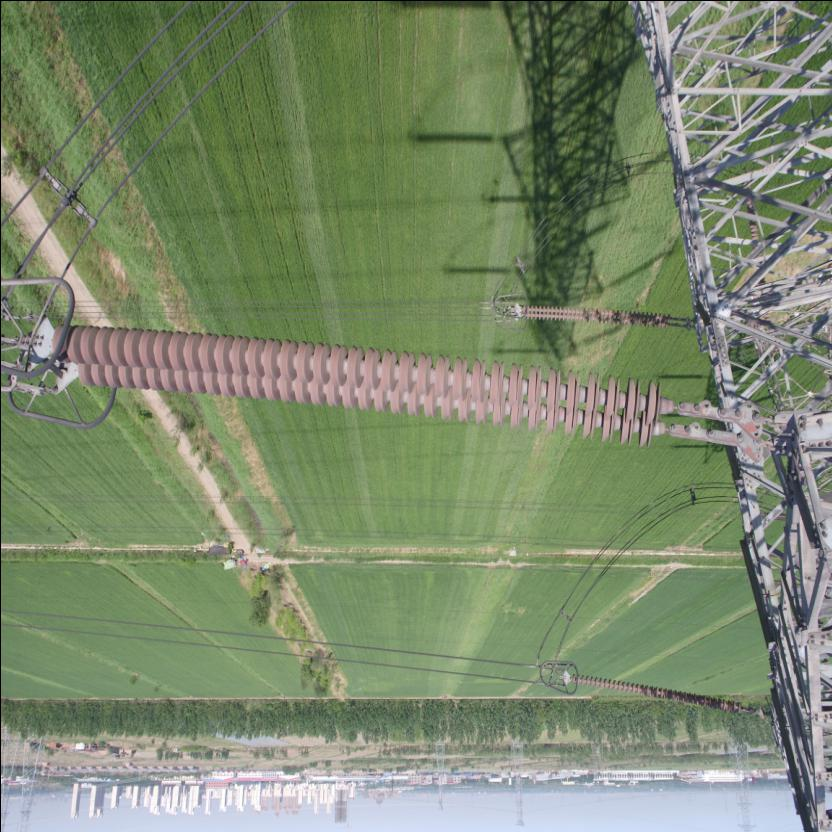insulator: (41, 324, 722, 454), (516, 304, 682, 330)
